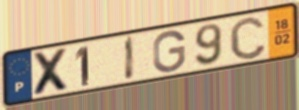1: (74, 45, 90, 88)
9: (193, 21, 224, 68)
C: (228, 15, 268, 62)
G: (152, 29, 188, 74)
I: (123, 34, 136, 82)
X: (30, 46, 73, 98)
